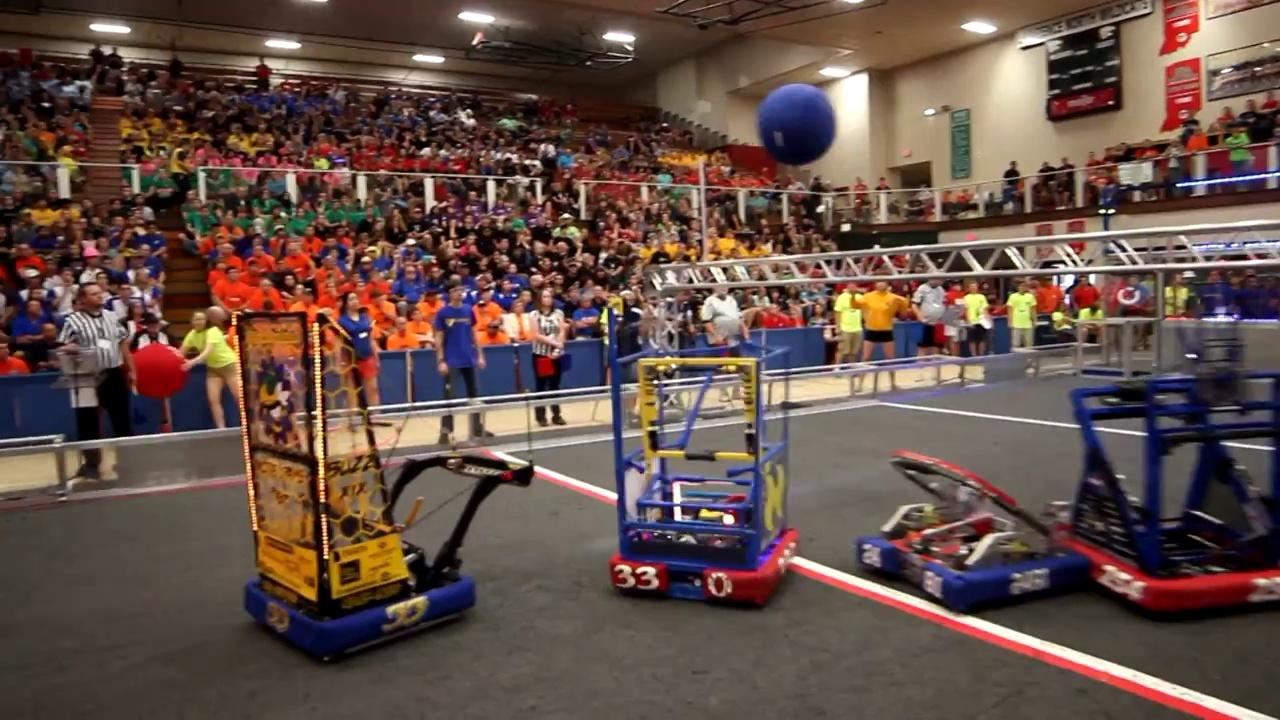robot: (221, 303, 543, 666), (593, 333, 801, 611), (1052, 367, 1280, 620), (851, 443, 1094, 618)
